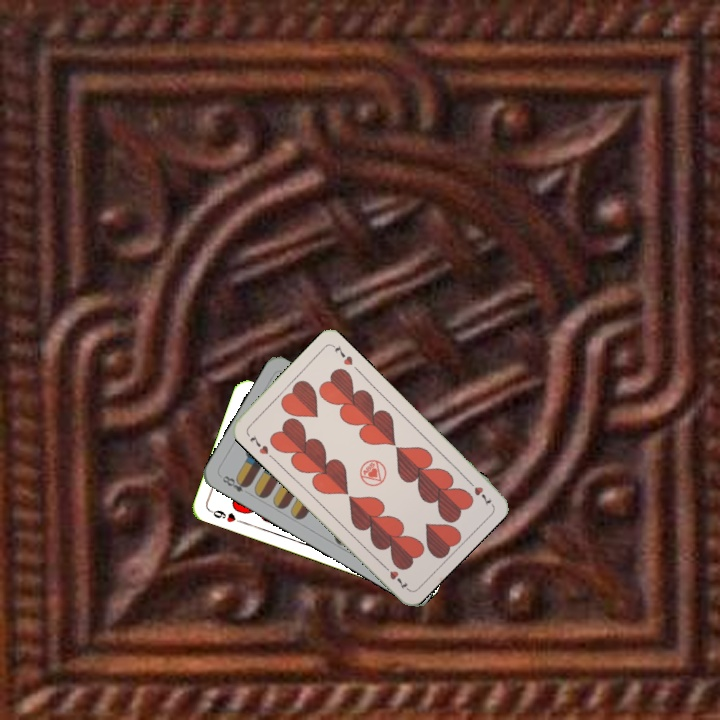E8: (218, 471, 252, 495)
H7: (462, 475, 494, 508), (246, 431, 271, 457)
H9: (206, 506, 245, 526)
